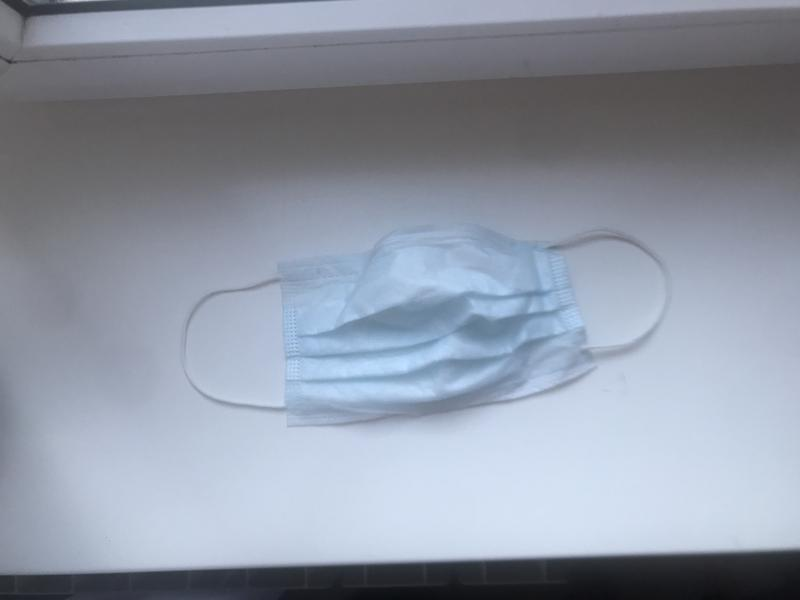medical_mask: (179, 225, 673, 413)
